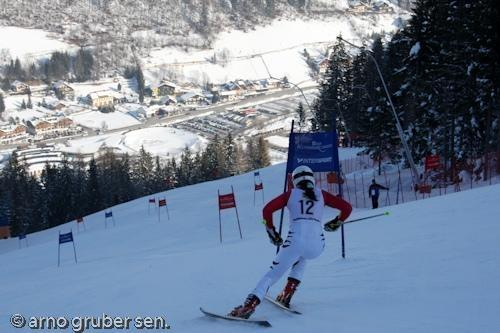car: (222, 112, 231, 119), (236, 116, 245, 123), (232, 115, 240, 122), (235, 128, 239, 132), (216, 130, 220, 132)
